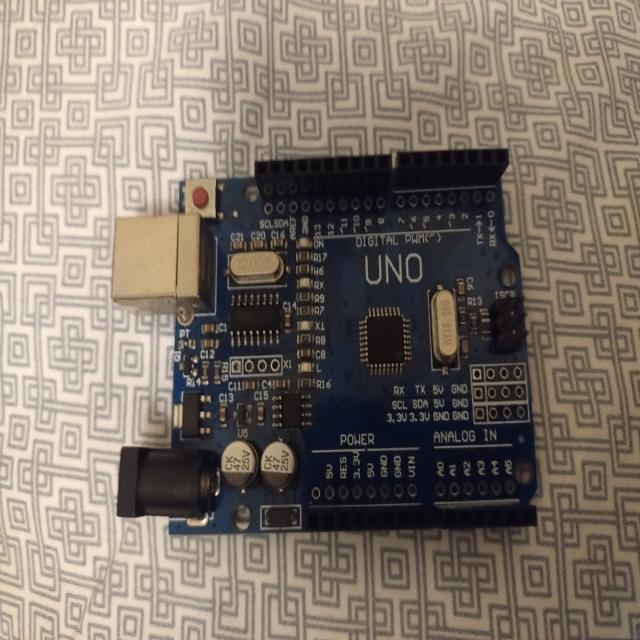arduino: (110, 141, 542, 537)
